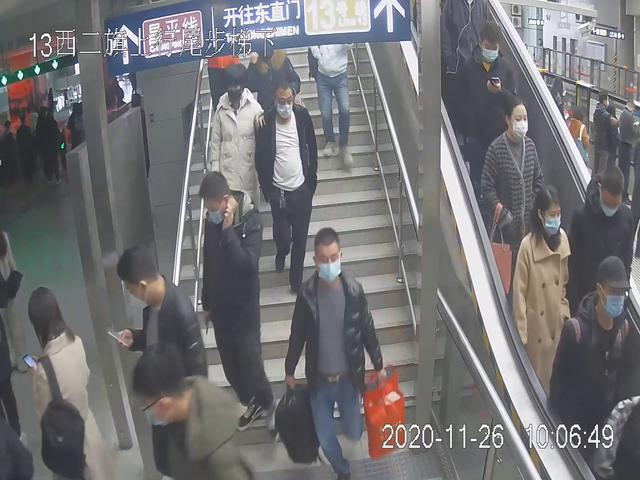person: (280, 226, 405, 480), (193, 166, 280, 438), (17, 281, 118, 480), (548, 252, 640, 459), (478, 98, 552, 317), (508, 182, 573, 419), (559, 160, 640, 336), (257, 81, 322, 300), (203, 62, 269, 275), (454, 15, 519, 202), (303, 32, 362, 170)
